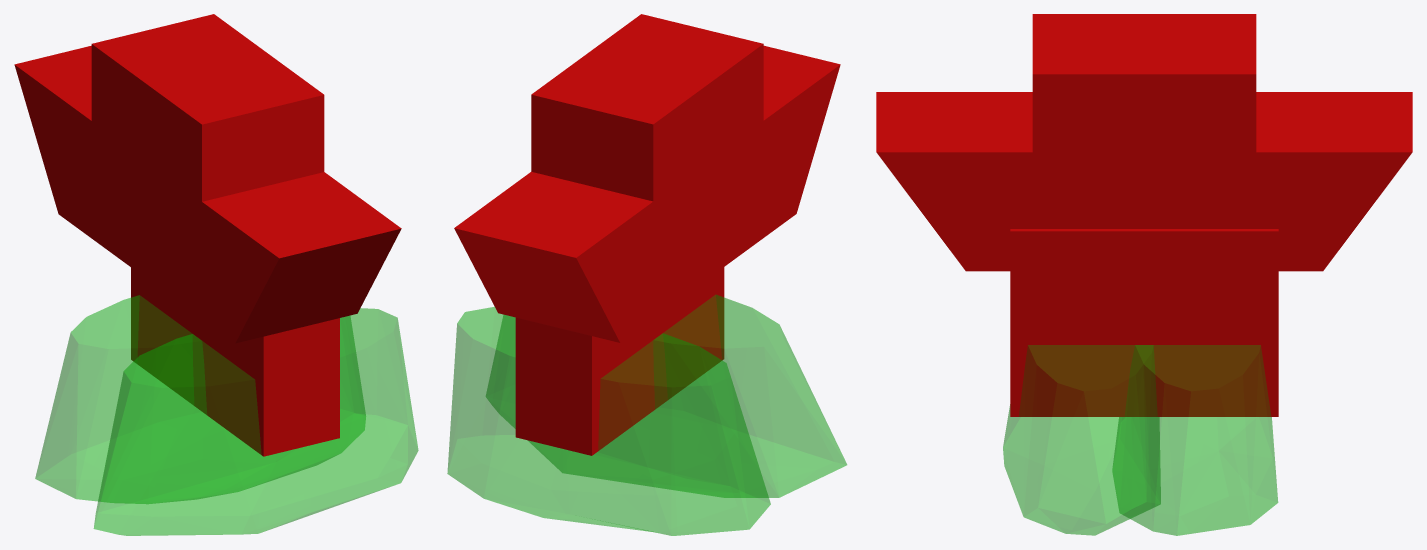
File: talos_trunk_lower_visual_large_reducedROM.dae
3 views of the same model, side by side, from view 1: azimuth 30°, elevation 25°; view 2: azimuth 150°, elevation 25°; view 3: azimuth 270°, elevation 25° (orthographic).
Parts seen in each view (by area): view 1: Talos_Trunk_Lower_Large, Circle_002, Circle_001; view 2: Talos_Trunk_Lower_Large, Circle_001, Circle_002; view 3: Talos_Trunk_Lower_Large, Circle_001, Circle_002.
Boxes of the visible parts, x1,y1,x2,y2 form: Talos_Trunk_Lower_Large: [14, 14, 401, 456]; Circle_002: [93, 308, 418, 535]; Circle_001: [35, 295, 365, 503]; Talos_Trunk_Lower_Large: [454, 14, 840, 455]; Circle_001: [447, 306, 770, 535]; Circle_002: [486, 294, 846, 497]; Talos_Trunk_Lower_Large: [876, 14, 1412, 416]; Circle_001: [1112, 345, 1278, 535]; Circle_002: [1003, 345, 1160, 535].
Size of the model in its own units: 0.8851 by 1.2 by 1.08.
